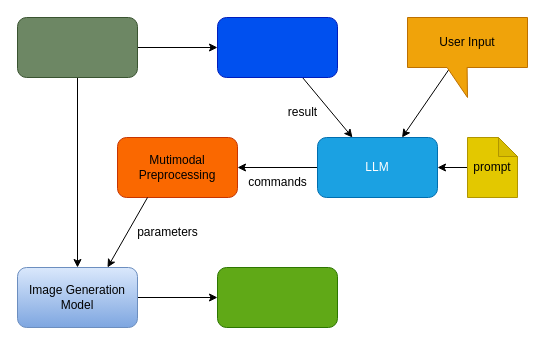
This 545x345 diagram has some shape labels left out. Here are the shapes that lost their labels. From the top down, the centre of each, then its label:
At pixel 77 47: "Base Image".
At pixel 277 47: "Image Segmentaion Model".
At pixel 277 297: "Edited Image".
